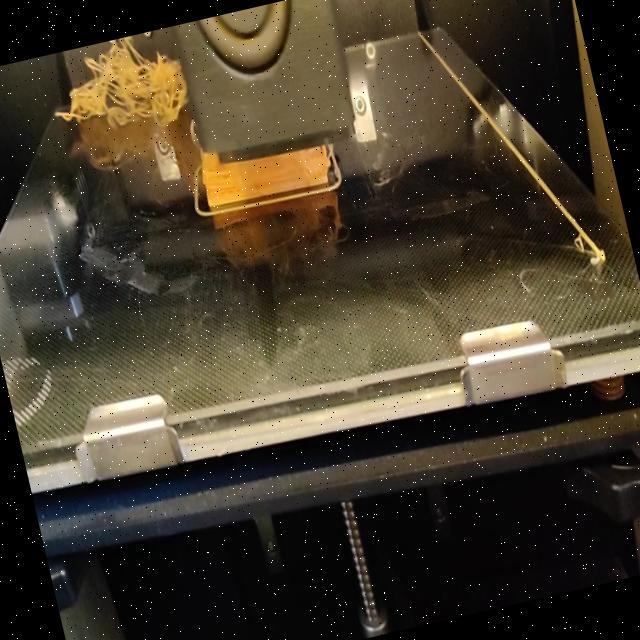spaghetti: (36, 26, 190, 143)
